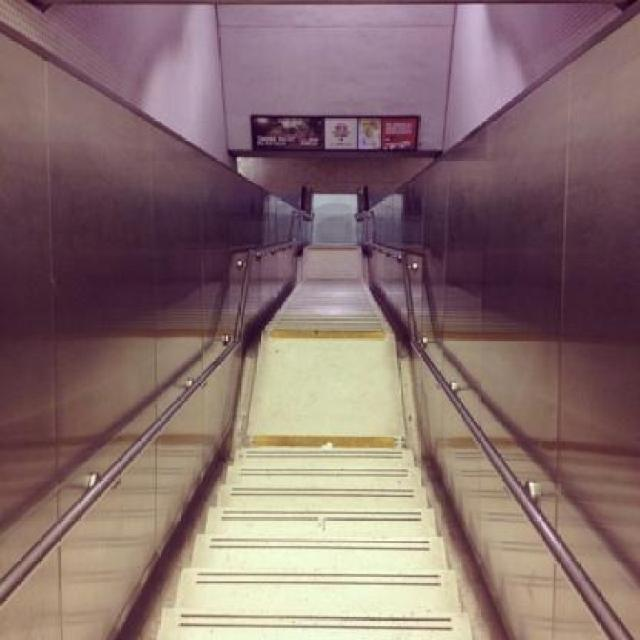stair: (157, 278, 472, 640)
